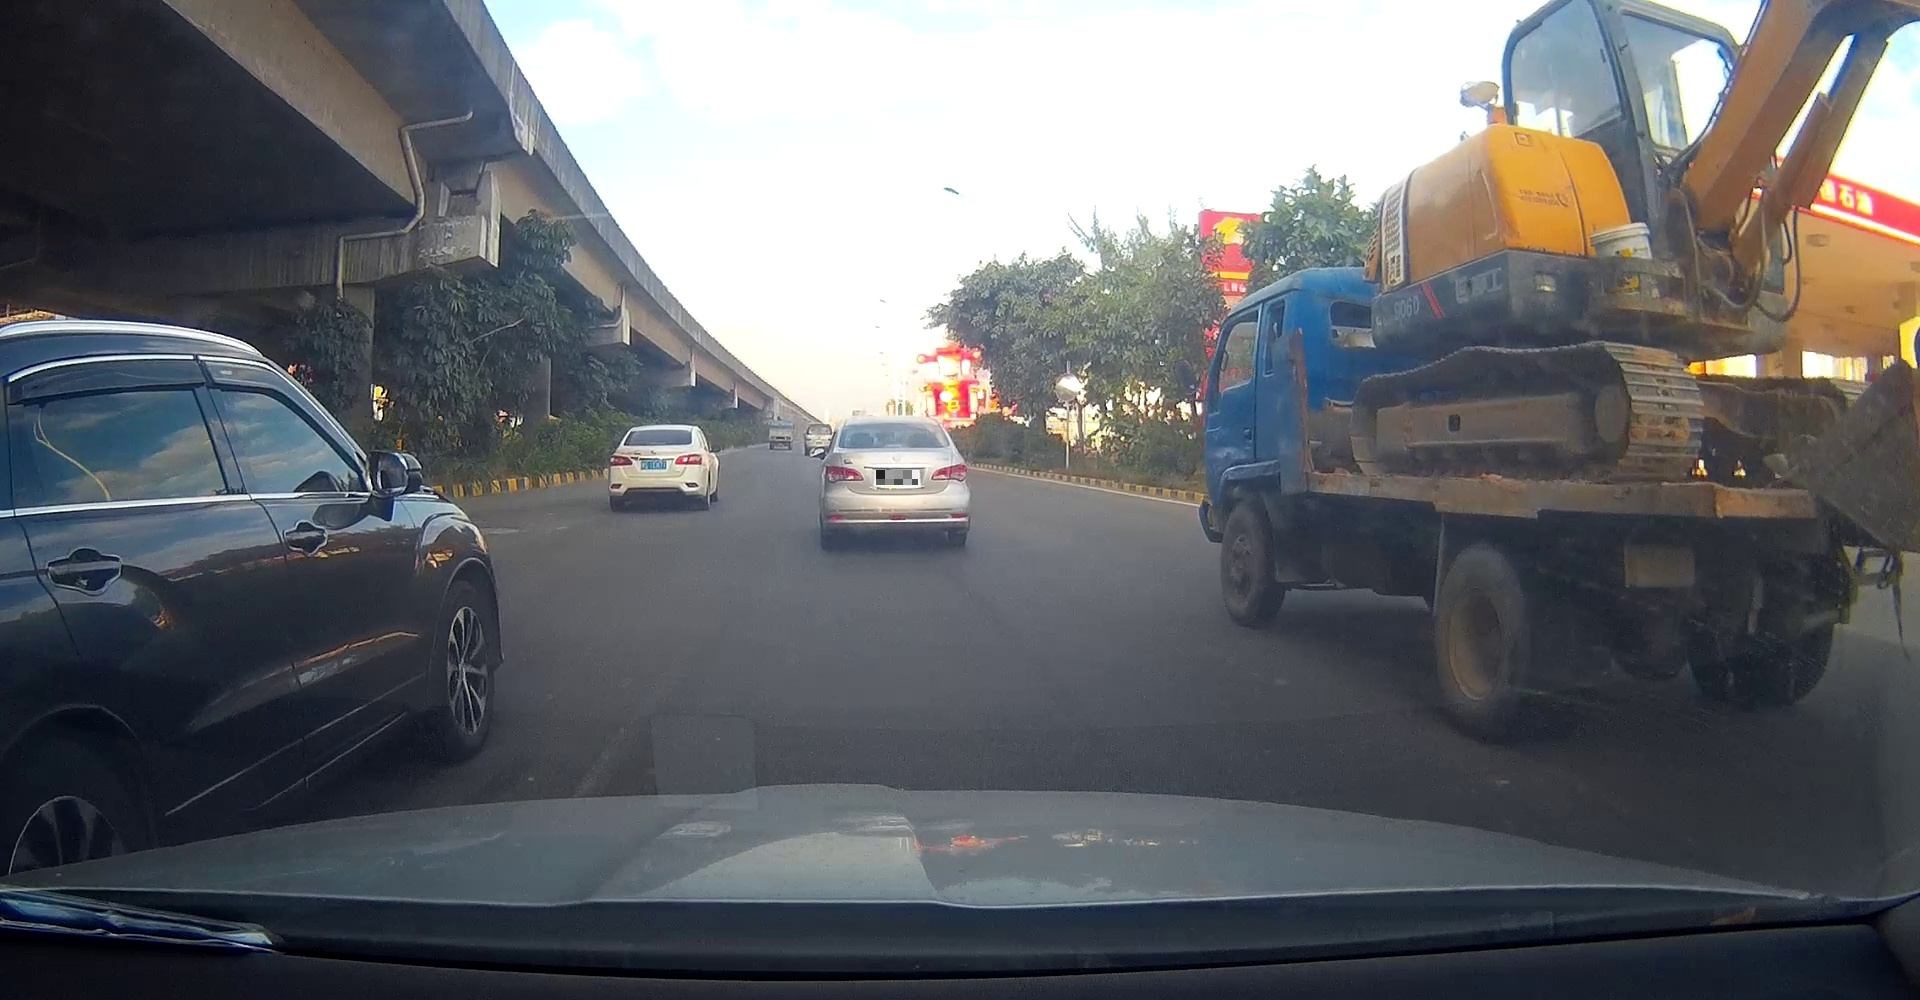L_light: (825, 464, 863, 484), (610, 454, 632, 466)
R_light: (931, 463, 968, 481), (674, 453, 702, 464)
T_light: (883, 443, 905, 448), (648, 442, 667, 445)
day-no: (823, 419, 970, 549), (610, 426, 705, 509)
plate_1: (876, 470, 918, 485)
